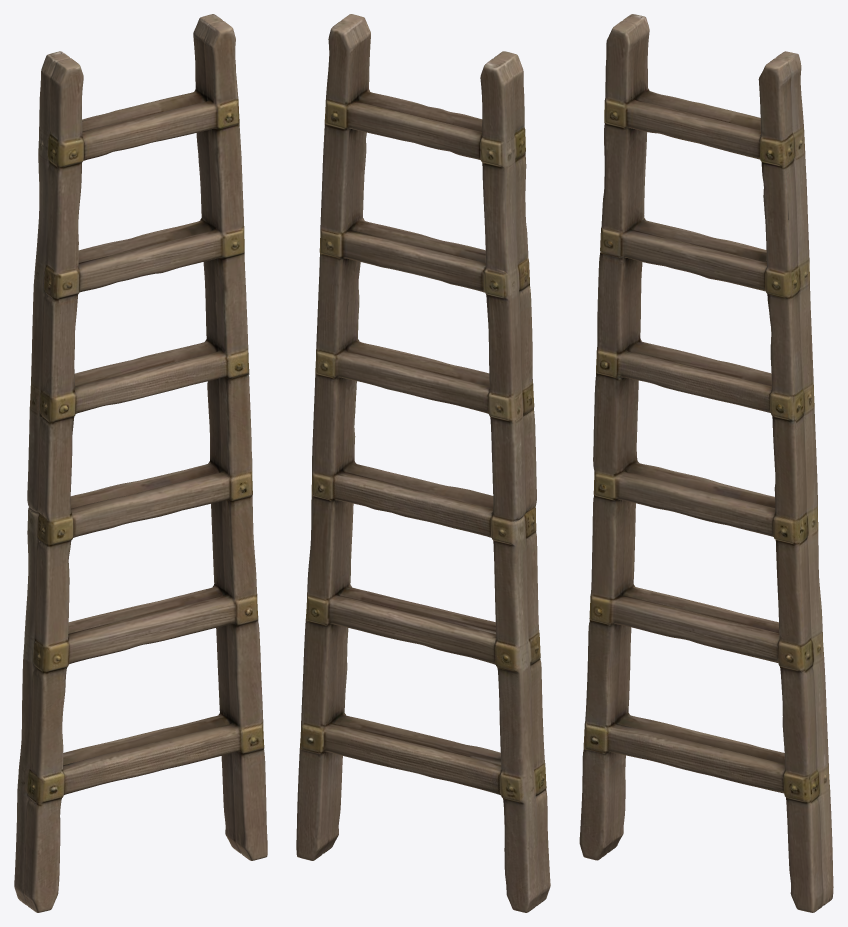
Rendered from ladder.glb.
3 views of the same model, side by side, from view 1: azimuth 30°, elevation 25°; view 2: azimuth 150°, elevation 25°; view 3: azimuth 330°, elevation 25° (orthographic).
Visible parts, largest first — view 1: node_0; view 2: node_0; view 3: node_0.
Boxes of the visible parts, <box> form: node_0: <box>14,14,267,912</box>; node_0: <box>296,14,550,912</box>; node_0: <box>579,14,833,912</box>.
Size of the model in its own units: 0.3393 by 1.15 by 0.0672.
Materials: 1 (1 with a texture image).
